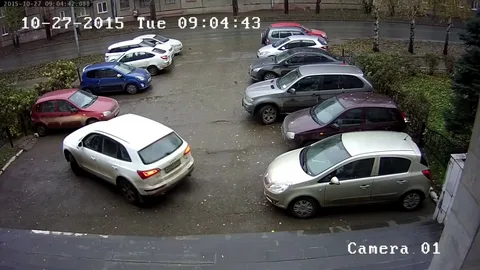Car: (262, 131, 431, 218), (63, 114, 195, 205), (242, 63, 374, 125), (281, 92, 409, 148), (29, 88, 120, 136), (249, 48, 346, 82), (81, 62, 152, 94), (113, 46, 174, 75), (257, 35, 328, 58), (104, 38, 175, 61), (269, 21, 328, 39), (135, 34, 183, 55), (261, 26, 314, 45)
